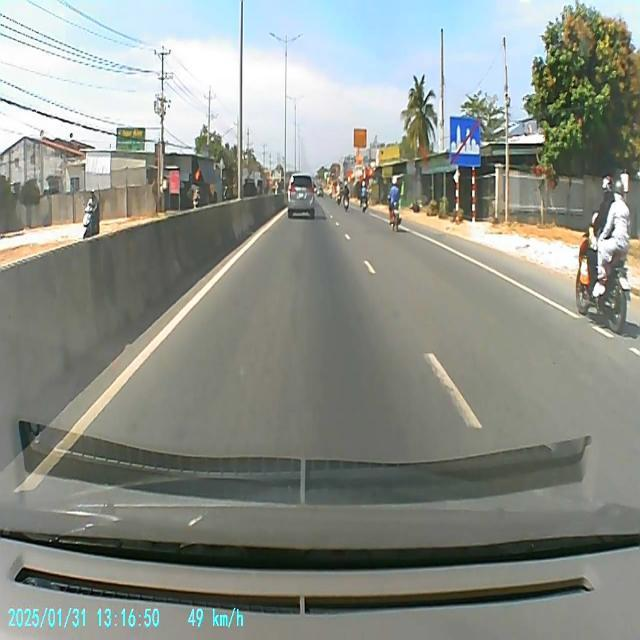421-ket-thuc-khu-dong-dan-cu: (449, 115, 481, 167)
